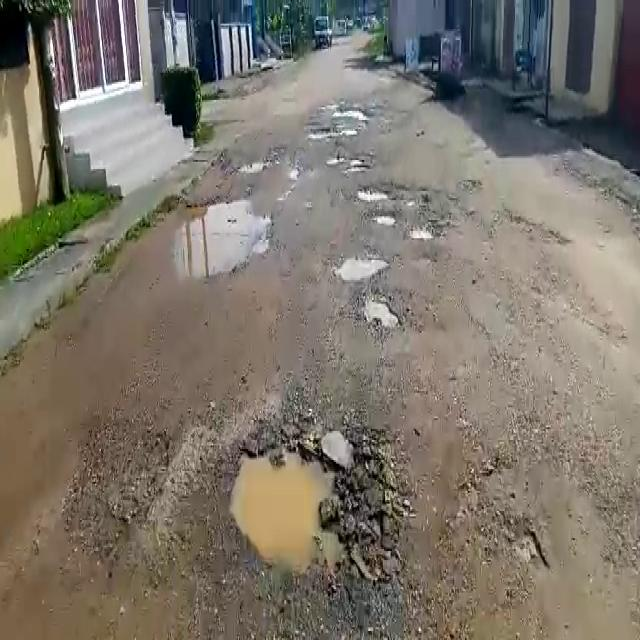Pothole: (230, 434, 386, 588), (127, 205, 274, 283), (358, 286, 408, 333), (333, 248, 386, 281), (326, 154, 370, 174), (309, 125, 358, 140), (356, 184, 398, 200), (334, 104, 371, 121), (406, 223, 436, 242), (240, 160, 272, 173), (372, 210, 399, 225)
